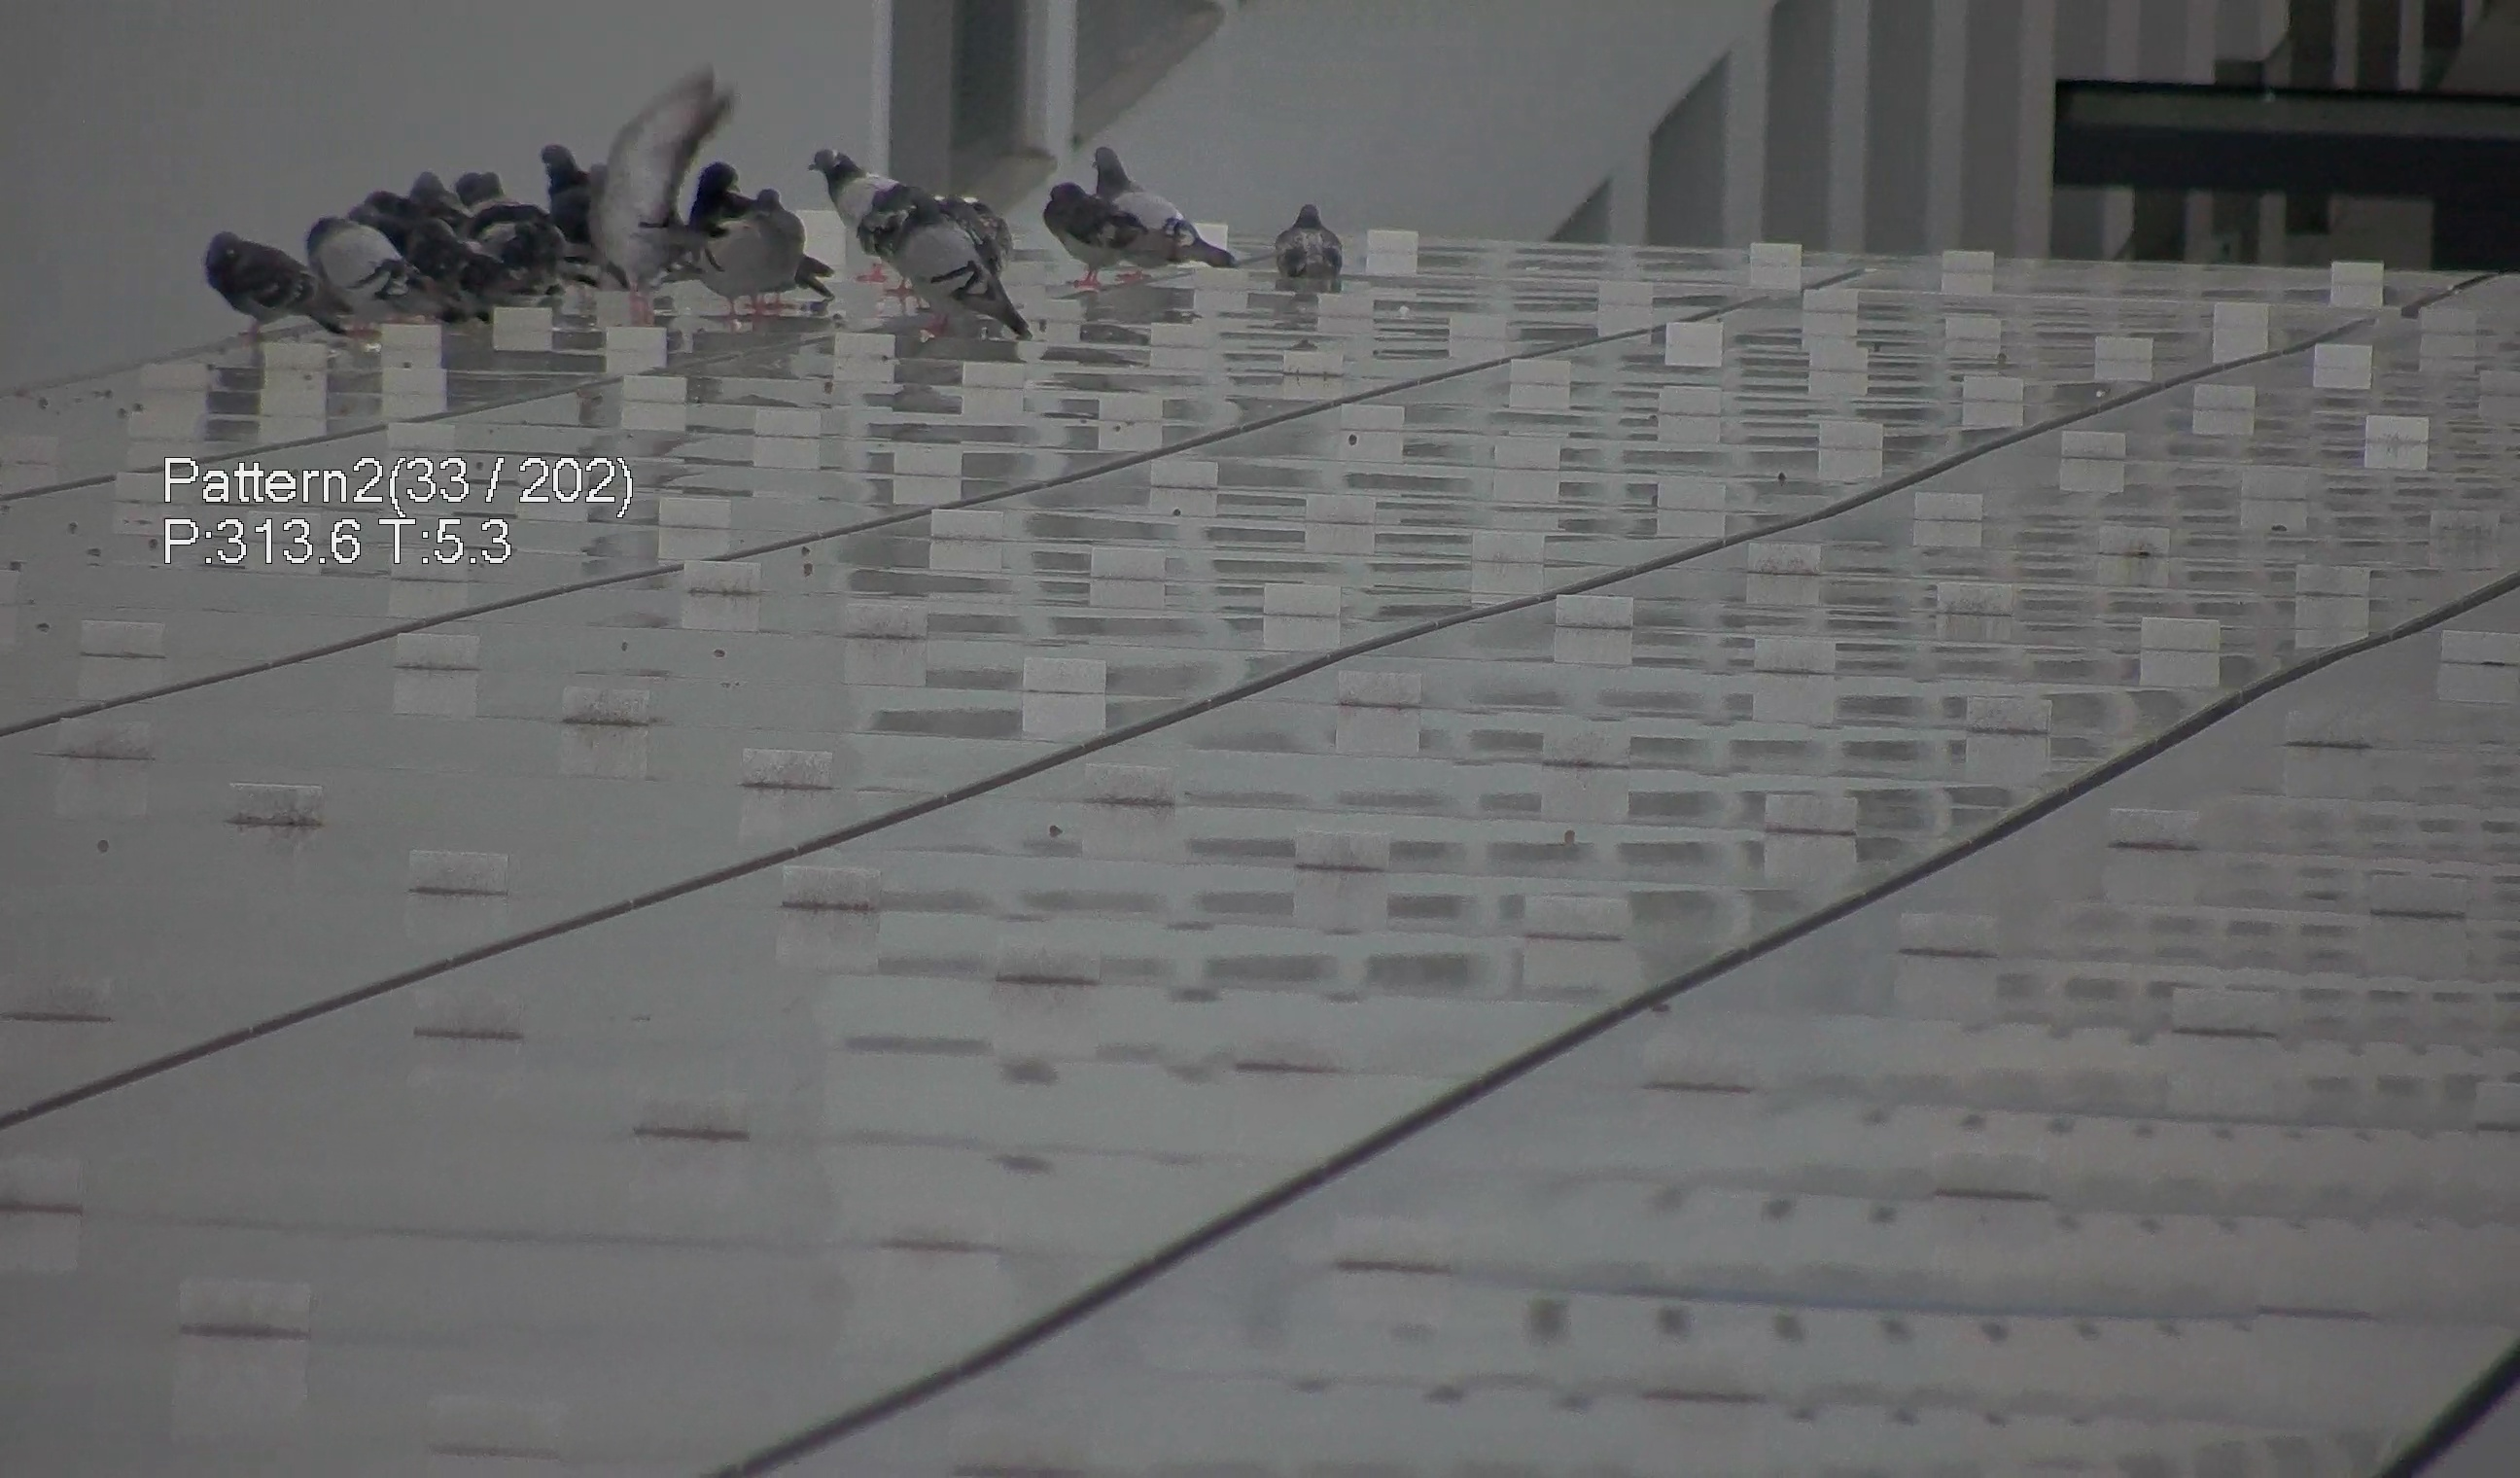Pigeon: (283, 197, 461, 333), (879, 183, 1039, 331), (686, 171, 819, 322), (1104, 132, 1236, 285), (193, 218, 338, 341), (1036, 174, 1184, 269), (814, 143, 916, 252), (1259, 187, 1351, 287), (512, 132, 601, 222), (677, 144, 749, 238)
